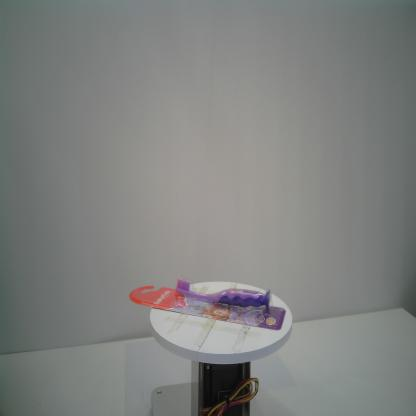Personal Hygiene: (128, 274, 286, 332)
